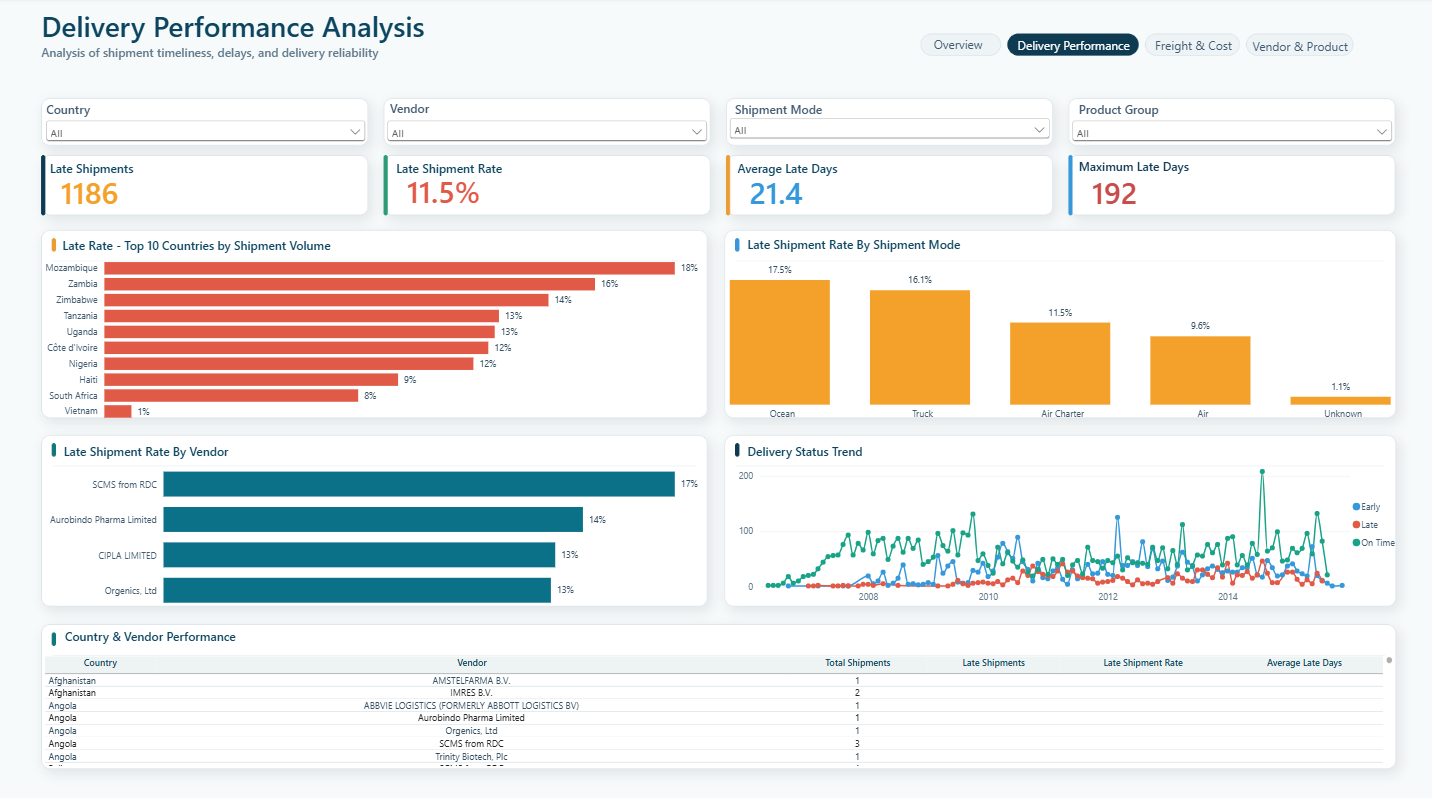

What the dashboard file says about the page in this screenshot:
{"tool":"powerbi","page":{"name":"Delivery Performance","canvas":[1920,1080],"ordinal":1},"visuals":[{"type":"textbox","box":[1247.8,52.2,102.2,36.7],"z":0},{"type":"textbox","box":[1542.8,53.3,111.1,36.7],"z":1000},{"type":"textbox","box":[1673.3,54.4,138.9,36.7],"z":2000},{"type":"textbox","box":[1358.9,53.3,164.4,36.7],"z":3000},{"type":"textbox","box":[61.5,139.2,78.5,29.2],"z":4000},{"type":"textbox","box":[521.4,137.1,78.5,29.2],"z":5000},{"type":"textbox","box":[1441.1,137.8,120,28.9],"z":6000},{"type":"textbox","box":[981.1,138.9,143.3,28.9],"z":7000},{"type":"slicer","fields":{"Values":["Shipments.country"]},"box":[56,160,436,46],"z":8000},{"type":"slicer","fields":{"Values":["Shipments.vendor"]},"box":[512,160,436.7,46],"z":9000},{"type":"slicer","fields":{"Values":["Shipments.shipment_mode"]},"box":[970,156.7,436.7,49.3],"z":10000},{"type":"slicer","fields":{"Values":["Shipments.product_group"]},"box":[1428,160,436.7,46],"z":11000},{"type":"textbox","box":[984.8,216.2,151.7,23.3],"z":12000},{"type":"textbox","box":[1441.2,215,186.2,23.8],"z":13000},{"type":"cardVisual","fields":{"Data":["Shipments.Maximum Late Days"]},"box":[1442.4,233.6,209,52],"z":14000},{"type":"textbox","box":[66.7,216.7,150,23.3],"z":15000},{"type":"cardVisual","fields":{"Data":["Shipments.Late Shipments"]},"box":[65,235,208.3,51.7],"z":16000},{"type":"textbox","box":[529,216.2,150,23.3],"z":17000},{"type":"cardVisual","fields":{"Data":["Shipments.Late Shipment Rate"]},"box":[527.5,234.1,209.1,51.8],"z":18000},{"type":"cardVisual","fields":{"Data":["Shipments.Average Late Days"]},"box":[985,233.8,209,52],"z":19000},{"type":"textbox","box":[84.3,321.4,407.1,22.9],"z":20000},{"type":"clusteredBarChart","fields":{"Category":["Shipments.country"],"Y":["Shipments.Late Shipment Rate"]},"box":[38.3,330,910,248.3],"z":21000},{"type":"textbox","box":[998.3,318.3,306.7,23.3],"z":22000},{"type":"clusteredColumnChart","fields":{"Category":["Shipments.shipment_mode"],"Y":["Shipments.Late Shipment Rate"]},"box":[940.9,330,959.1,254.5],"z":23000},{"type":"textbox","box":[85,596,306.7,23.3],"z":24000},{"type":"clusteredBarChart","fields":{"Category":["Shipments.vendor"],"Y":["Shipments.Late Shipment Rate"]},"box":[38.6,607.1,910,222.9],"z":25000},{"type":"textbox","box":[998,596,306.7,23.3],"z":26000},{"type":"lineChart","fields":{"Category":["Shipments.scheduled_delivery_date.Variation.Date Hierarchy.Year","Shipments.scheduled_delivery_date.Variation.Date Hierarchy.Month"],"Series":["Shipments.delivery_status"],"Y":["Shipments.Total Shipments"]},"box":[970,578.8,918.8,251.2],"z":27000},{"type":"textbox","box":[86,844,306.7,23.3],"z":28000},{"type":"textbox","box":[55,13,920,99],"z":29000},{"type":"tableEx","fields":{"Values":["Shipments.country","Shipments.vendor","Shipments.Total Shipments","Shipments.Late Shipments","Shipments.Late Shipment Rate4","Shipments.Average Late Days"]},"box":[43,867,1833,176],"z":30000}]}

Visuals, with their boxes in screenshot pixels (x1, y1, x2, y2), scaled from the page's 1920x1080 canvas onto the 1432x798 screenshot:
textbox: box=[931, 39, 1007, 66]
textbox: box=[1151, 39, 1234, 66]
textbox: box=[1248, 40, 1352, 67]
textbox: box=[1014, 39, 1136, 66]
textbox: box=[46, 103, 104, 124]
textbox: box=[389, 101, 447, 123]
textbox: box=[1075, 102, 1164, 123]
textbox: box=[732, 103, 839, 124]
slicer - Shipments.country: box=[42, 118, 367, 152]
slicer - Shipments.vendor: box=[382, 118, 708, 152]
slicer - Shipments.shipment_mode: box=[723, 116, 1049, 152]
slicer - Shipments.product_group: box=[1065, 118, 1391, 152]
textbox: box=[734, 160, 848, 177]
textbox: box=[1075, 159, 1214, 176]
cardVisual - Shipments.Maximum Late Days: box=[1076, 173, 1232, 211]
textbox: box=[50, 160, 162, 177]
cardVisual - Shipments.Late Shipments: box=[48, 174, 204, 212]
textbox: box=[395, 160, 506, 177]
cardVisual - Shipments.Late Shipment Rate: box=[393, 173, 549, 211]
cardVisual - Shipments.Average Late Days: box=[735, 173, 891, 211]
textbox: box=[63, 237, 367, 254]
clusteredBarChart - Shipments.country x Shipments.Late Shipment Rate: box=[29, 244, 707, 427]
textbox: box=[745, 235, 973, 252]
clusteredColumnChart - Shipments.shipment_mode x Shipments.Late Shipment Rate: box=[702, 244, 1417, 432]
textbox: box=[63, 440, 292, 458]
clusteredBarChart - Shipments.vendor x Shipments.Late Shipment Rate: box=[29, 449, 707, 613]
textbox: box=[744, 440, 973, 458]
lineChart - Shipments.scheduled_delivery_date.Variation.Date Hierarchy.Year x Shipments.scheduled_delivery_date.Variation.Date Hierarchy.Month: box=[723, 428, 1409, 613]
textbox: box=[64, 624, 293, 641]
textbox: box=[41, 10, 727, 83]
tableEx - Shipments.country x Shipments.vendor: box=[32, 641, 1399, 771]
